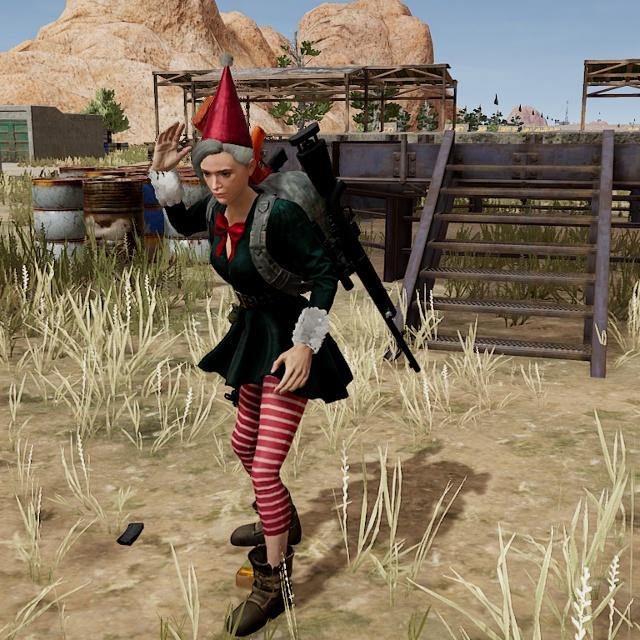head: (187, 120, 265, 209)
people: (151, 106, 353, 640)
